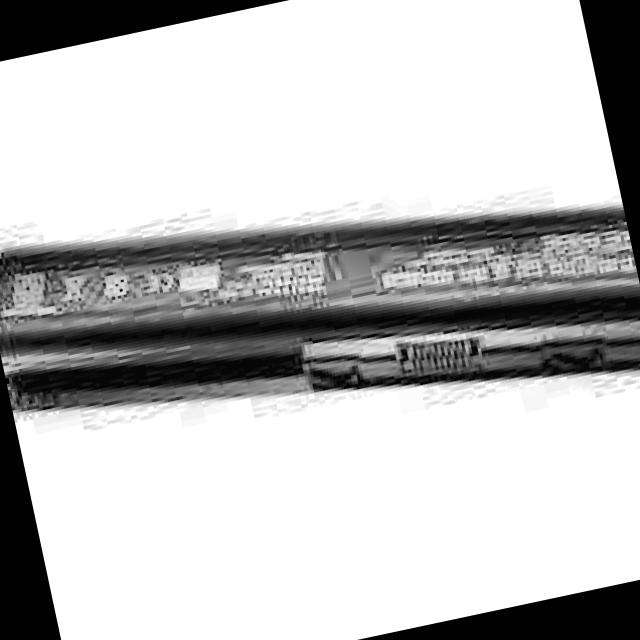Battery: (0, 115, 640, 496)
